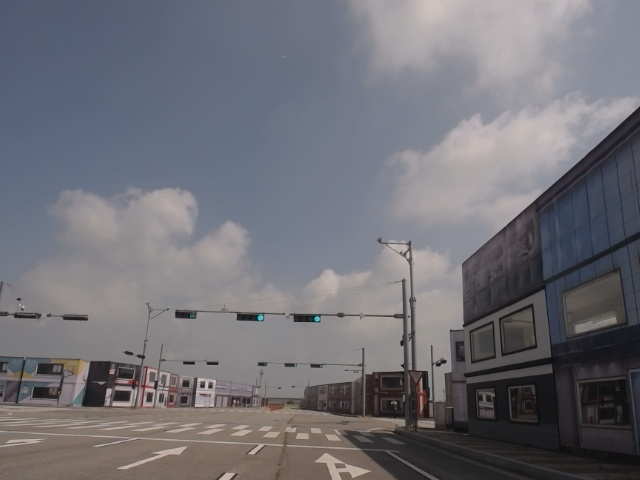straight_green_4: (294, 314, 321, 323), (238, 312, 264, 321)
